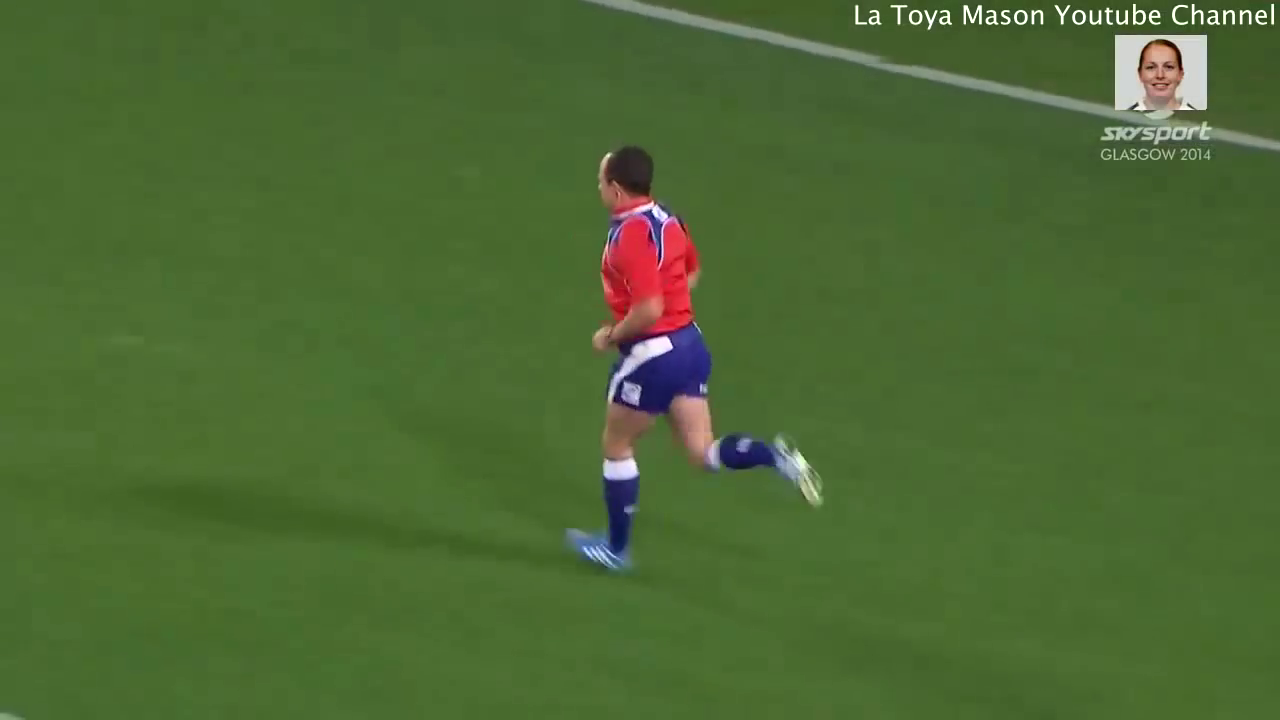player: (554, 140, 838, 597)
